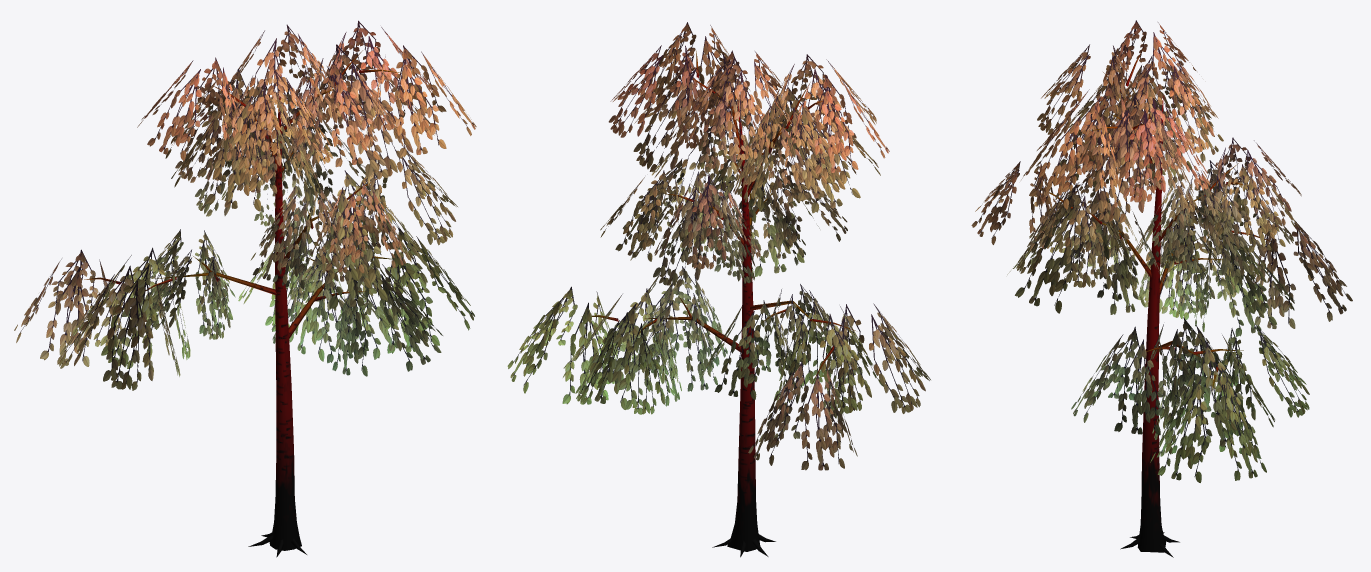
File: birch.glb
3 views of the same model, side by side, from view 1: azimuth 30°, elevation 25°; view 2: azimuth 150°, elevation 25°; view 3: azimuth 270°, elevation 25° (orthographic). The views are drawn at different scales.
Visible parts, largest first — view 1: birch; view 2: birch; view 3: birch.
Boxes of the visible parts, x1,y1,x2,y2 form: birch: (14,20,476,557); birch: (507,22,930,557); birch: (971,20,1352,557).
Size of the model in its own units: 5.86 by 6.74 by 4.87.
1 material, 1 textured.
